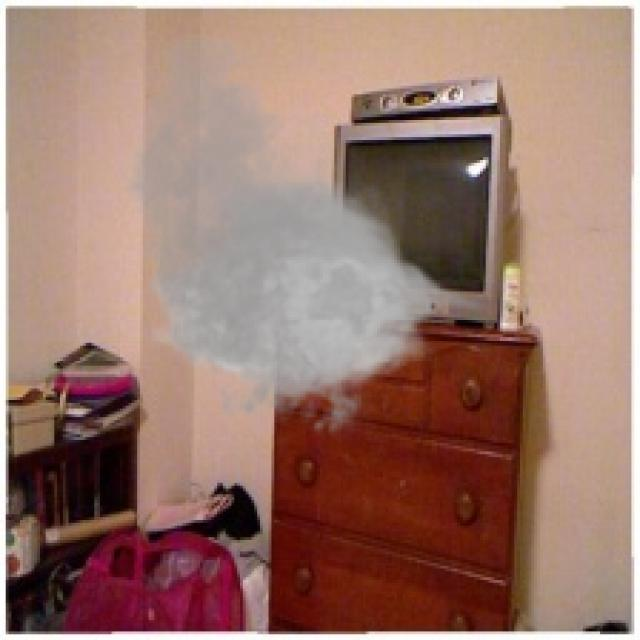smoke: (109, 26, 492, 448)
